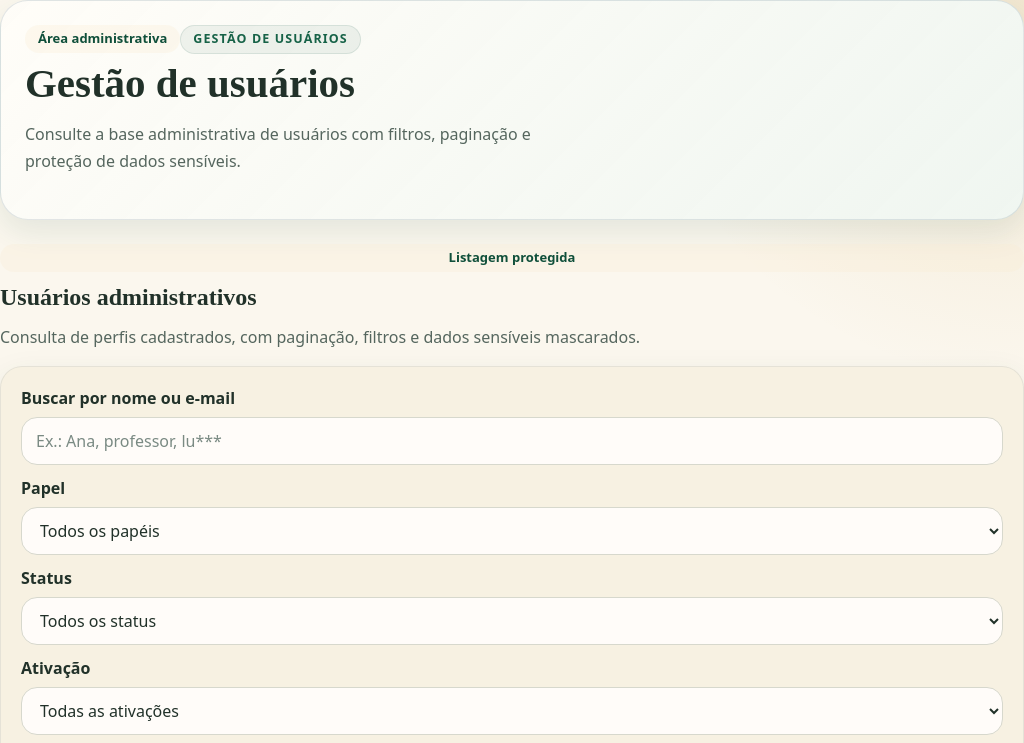
Test case: AdminUsersPage filters › limpar restaura os defaults
The width and height of the screenshot is (1024, 743).
Type "  Ana  " into the field labelled "Buscar por nome ou e-mail".
click(512, 441); type("  Ana  ")  # box [21,417,1003,465]
Select "Professor" in the dropdown labelled "Papel" at (512, 531), box [21,507,1003,555]
Select "Inativo" in the dropdown labelled "Status" at (512, 621), box [21,597,1003,645]
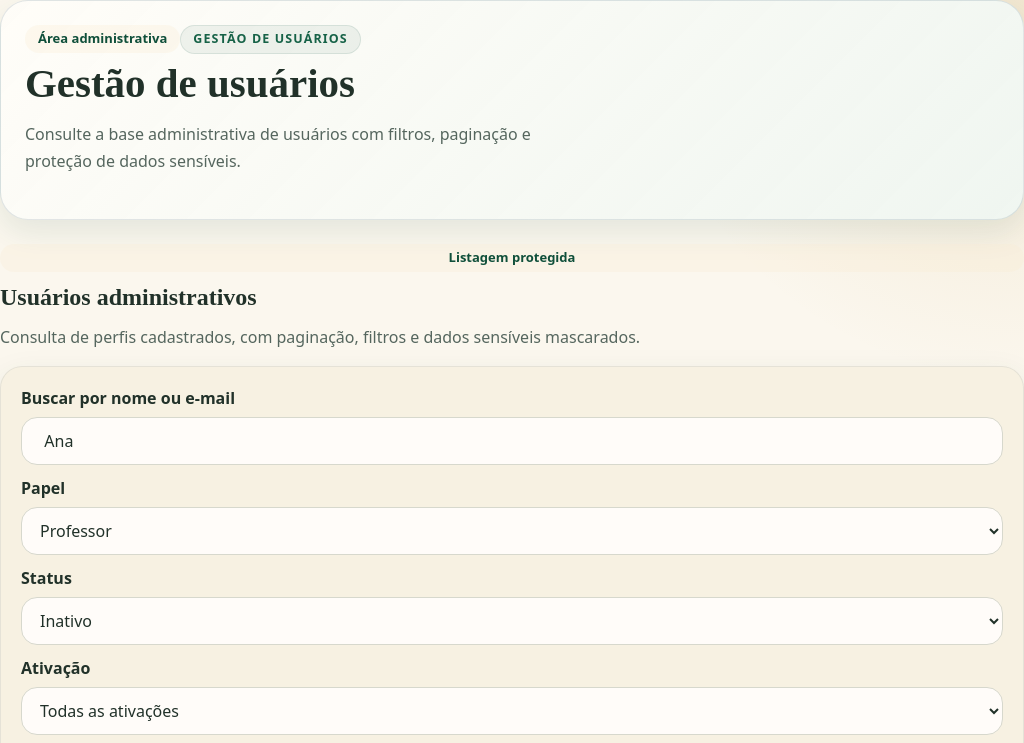
Select "Não ativado" in the dropdown labelled "Ativação" at (512, 711), box [21,687,1003,735]
(page scrolled)
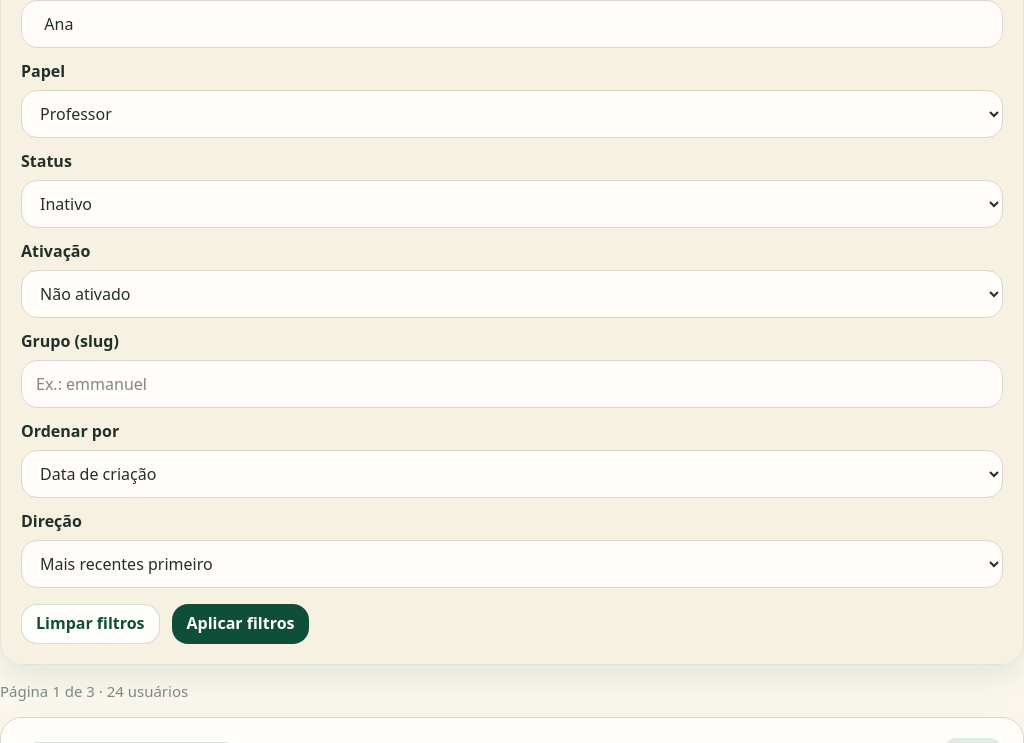
Type "emmanuel" into the field labelled "Grupo (slug)".
click(512, 384); type("emmanuel")  # box [21,360,1003,408]
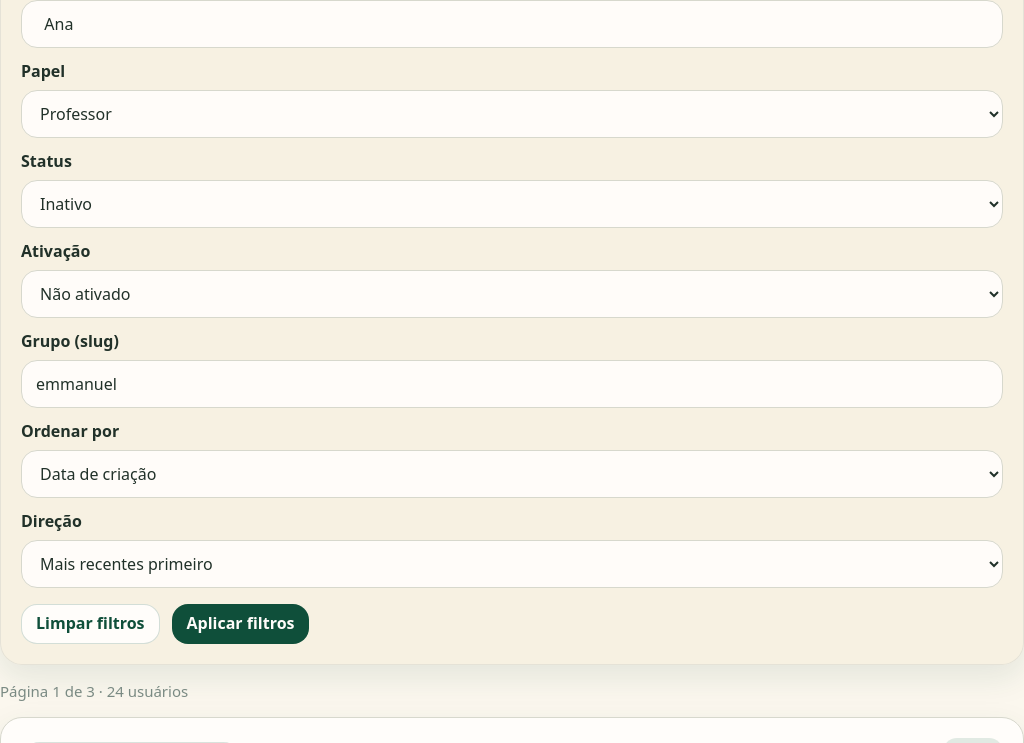
Select "Nome" in the dropdown labelled "Ordenar por" at (512, 474), box [21,450,1003,498]
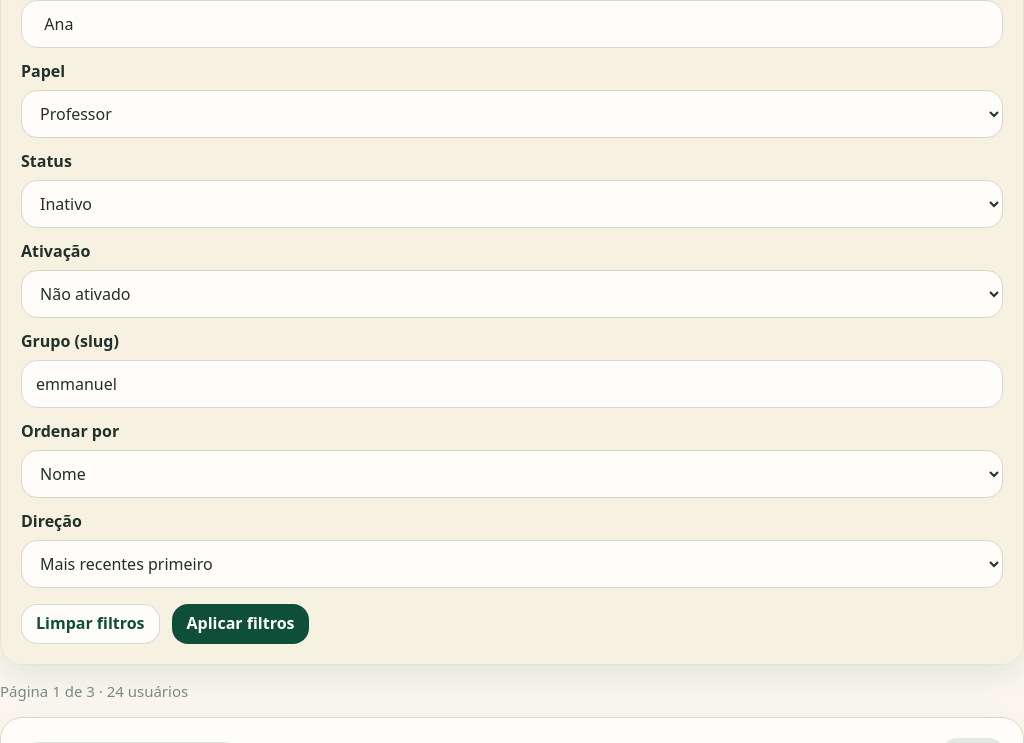
Select "Mais antigos primeiro" in the dropdown labelled "Direção" at (512, 564), box [21,540,1003,588]
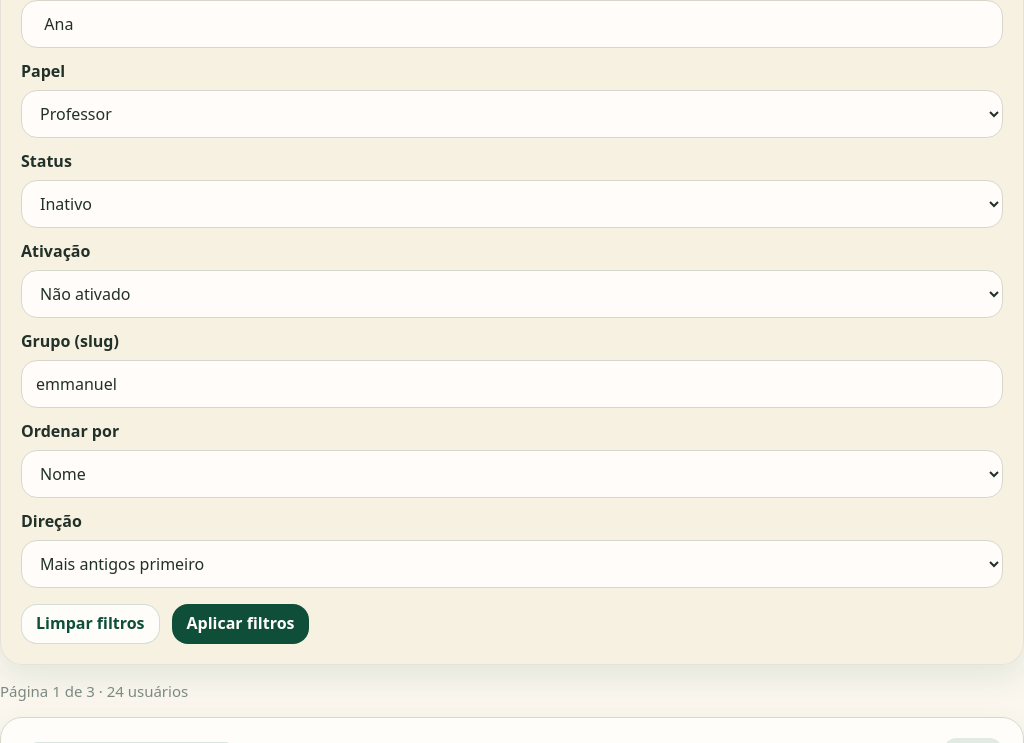
Click the button "Limpar filtros".
click(90, 624)  # box [21,604,160,644]
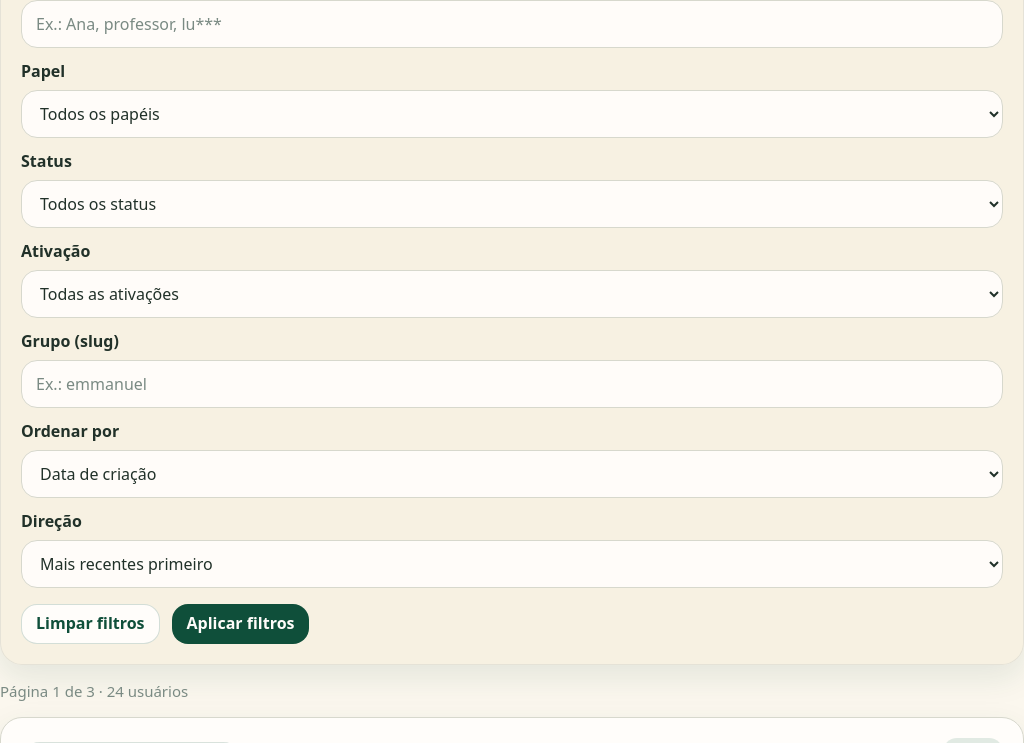
Result: the field labelled "Buscar por nome ou e-mail" is empty at [21,0,1003,48]
Result: the field labelled "Grupo (slug)" is empty at [21,360,1003,408]
